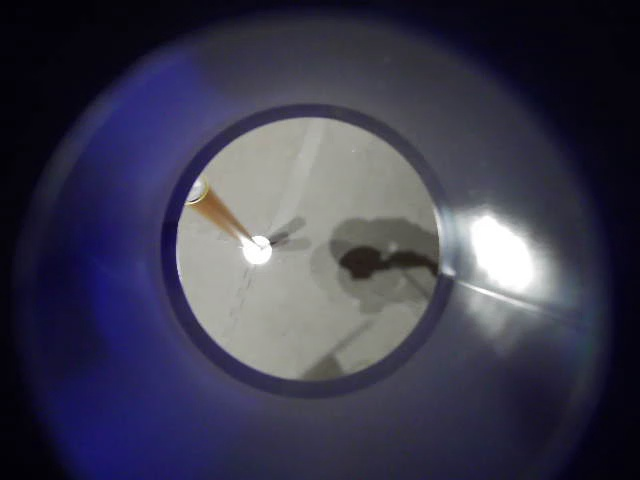tip: (114, 272, 178, 331)
